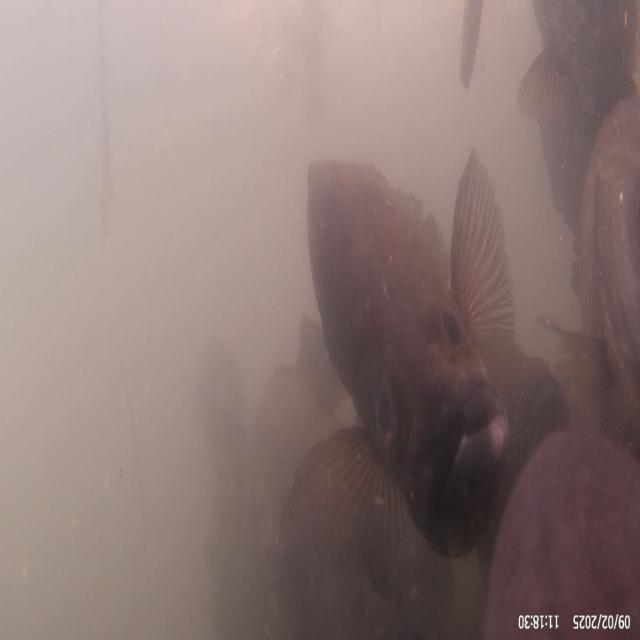ikan: (264, 146, 566, 635)
